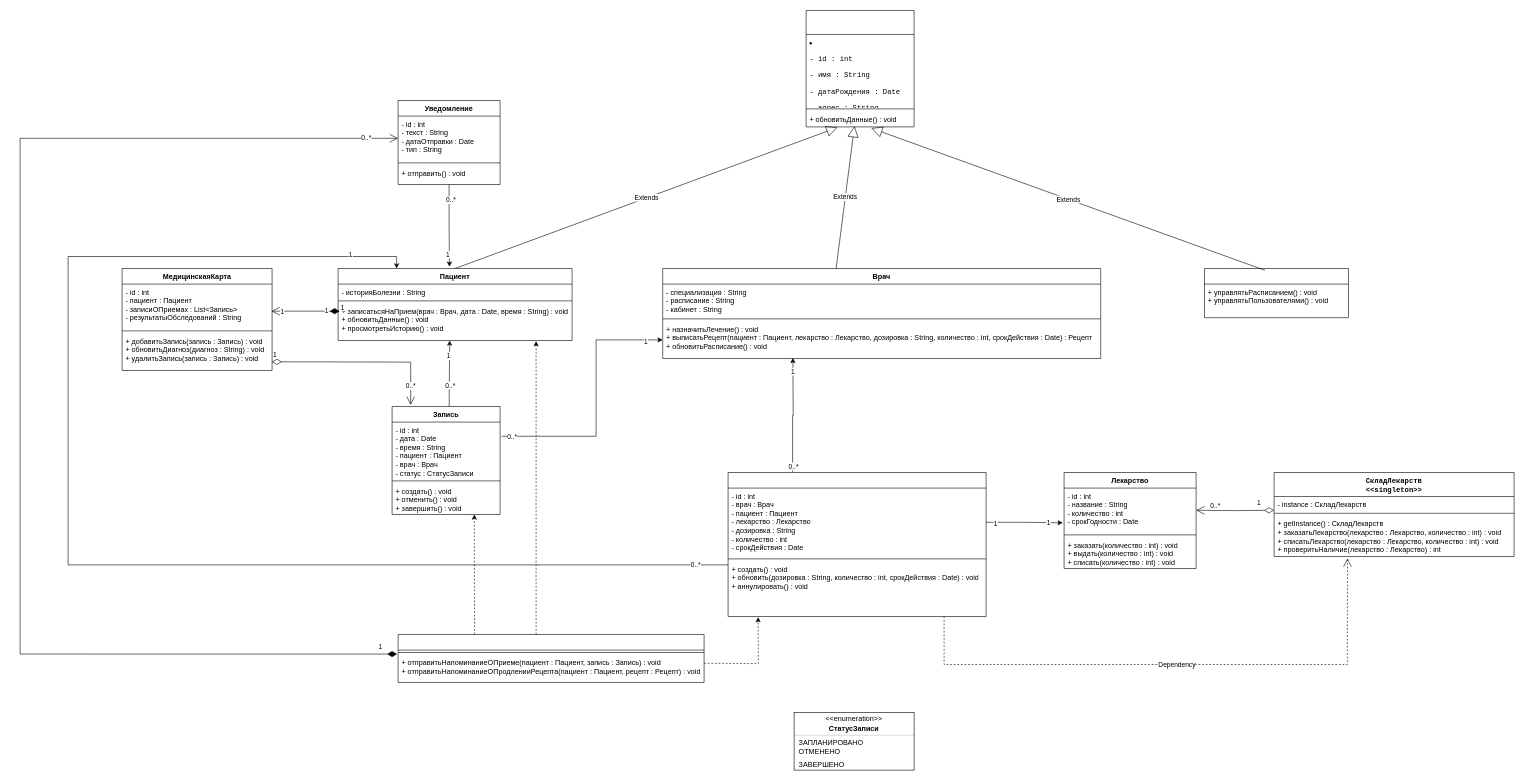
Some shapes in this 1525 by 781 pixel diagram are drawn without their labels. Each missing label, with the box of its shape:
Администратор: (1204, 268, 1348, 318)
ПользовательСистемы <<abstract>>: (806, 10, 914, 127)
Рецепт: (728, 472, 986, 616)
СервисУведомлений: (398, 634, 704, 682)
